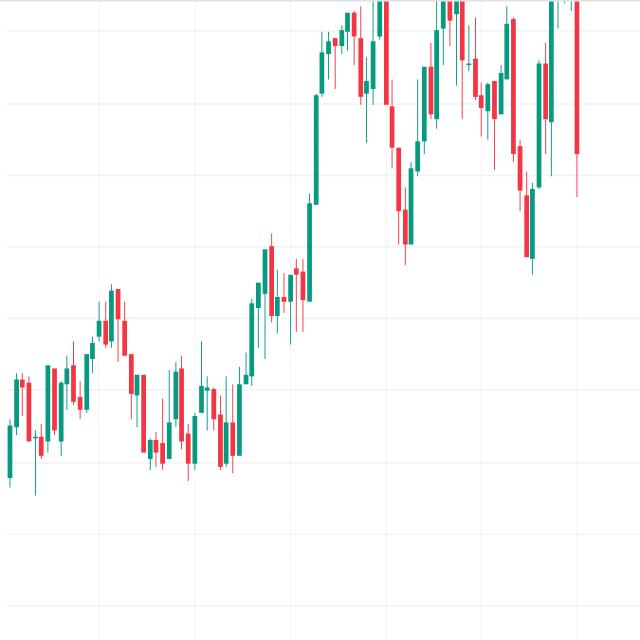Triple-Bottom: (121, 348, 260, 483)
